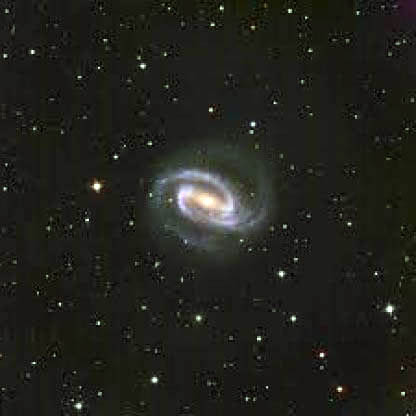NGC 1300: (136, 130, 282, 266)
